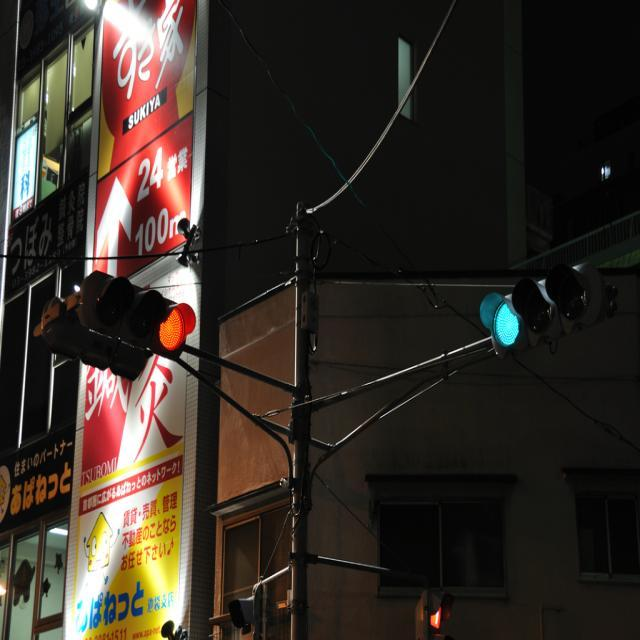traffic light: (84, 269, 203, 360), (478, 265, 599, 353)
